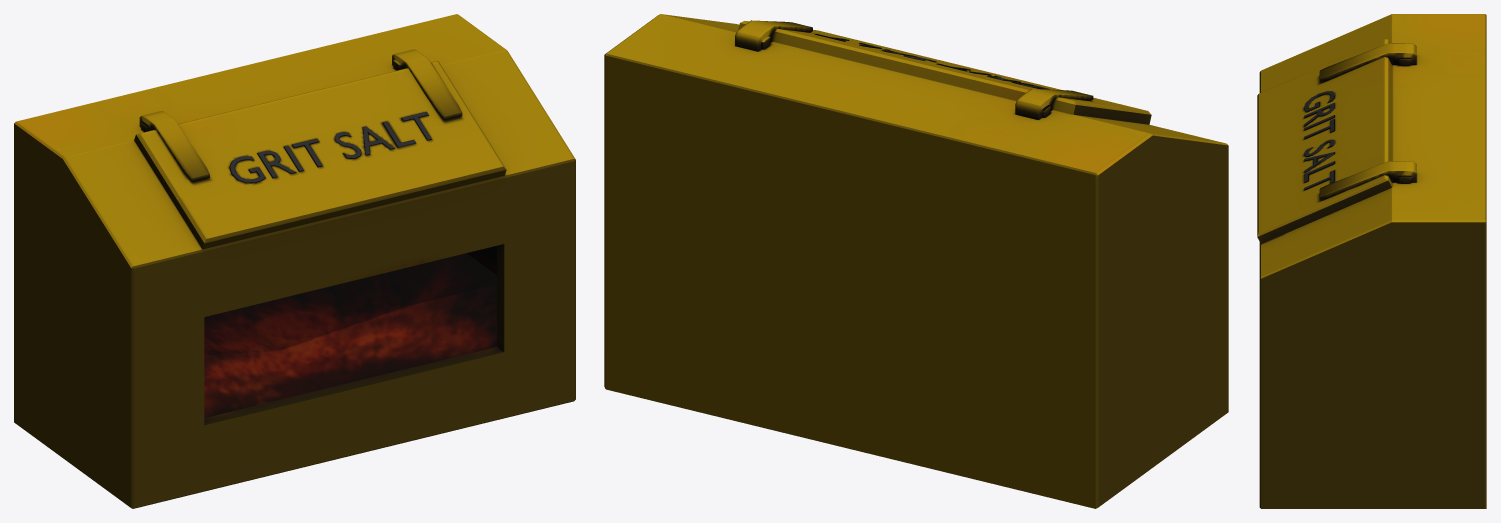
3 views of the same model, side by side, from view 1: azimuth 30°, elevation 25°; view 2: azimuth 150°, elevation 25°; view 3: azimuth 270°, elevation 25° (orthographic). The views are drawn at different scales.
Visible parts, largest first — view 1: gritbox; view 2: gritbox; view 3: gritbox.
Part boxes in pixels (x1=…): gritbox: x1=14, y1=14, x2=575, y2=508; gritbox: x1=604, y1=14, x2=1228, y2=508; gritbox: x1=1257, y1=14, x2=1486, y2=508.
Size of the model in its own units: 309 by 208 by 144.
Materials: 1 (1 with a texture image).
